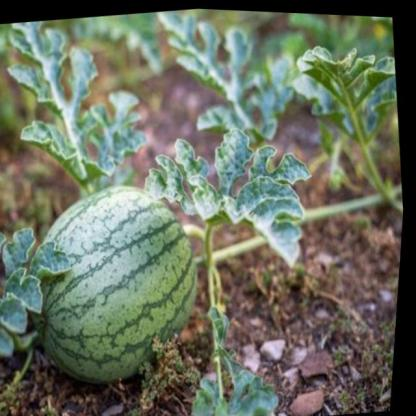watermelon: (16, 171, 218, 394)
